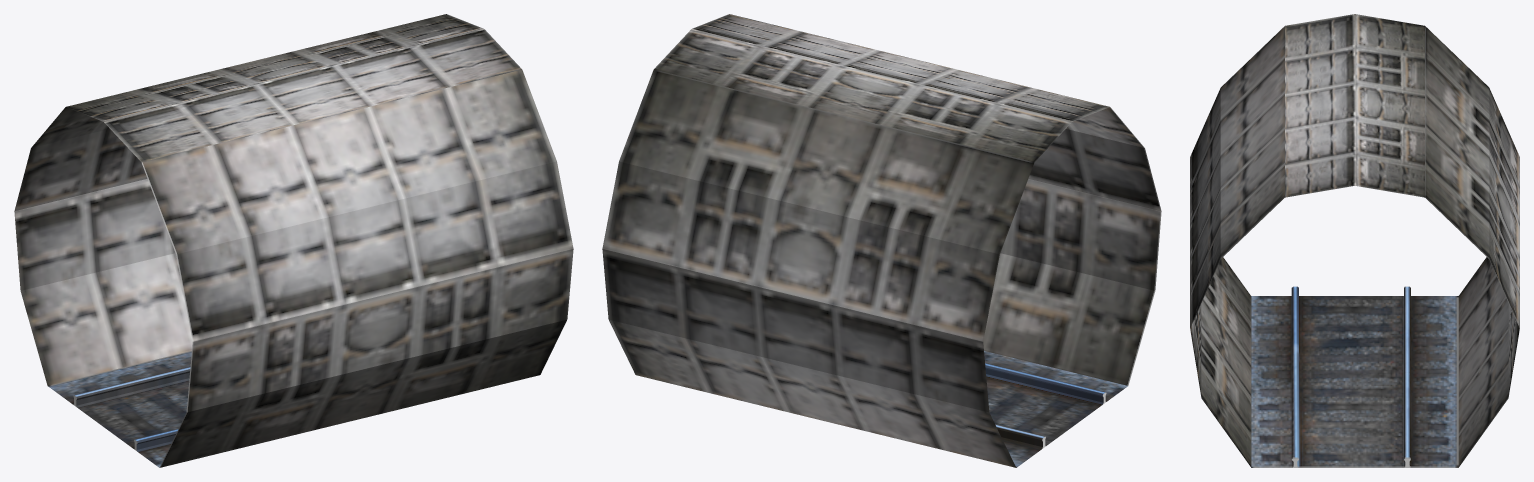
File: Tunnel.glb
3 renders of one model, left to right at view 1: azimuth 30°, elevation 25°; view 2: azimuth 150°, elevation 25°; view 3: azimuth 270°, elevation 25°, orthographic. The views are drawn at different scales.
Visible parts, largest first — view 1: tunnel; view 2: tunnel; view 3: tunnel.
Part boxes in pixels (bbox=[...]): tunnel: bbox=[14, 14, 573, 467]; tunnel: bbox=[602, 14, 1161, 467]; tunnel: bbox=[1190, 14, 1519, 467].
Size of the model in its own units: 7.1 by 5.43 by 5.76.
1 material, 1 textured.
